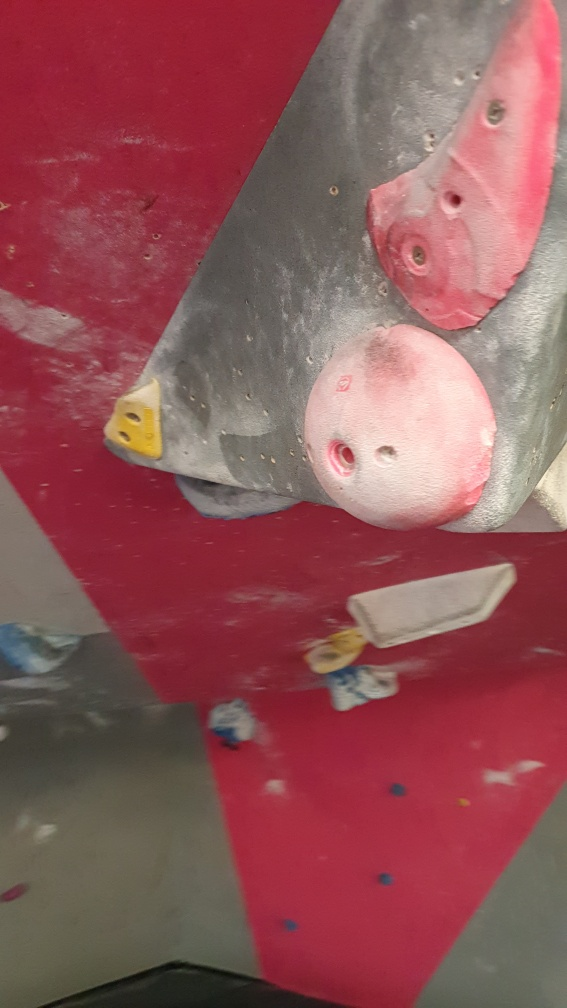Crimp: (102, 375, 173, 467)
Sloper: (302, 319, 495, 536)
